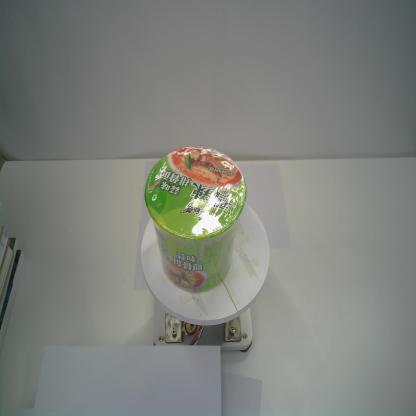Instant Noodles: (144, 146, 247, 293)
